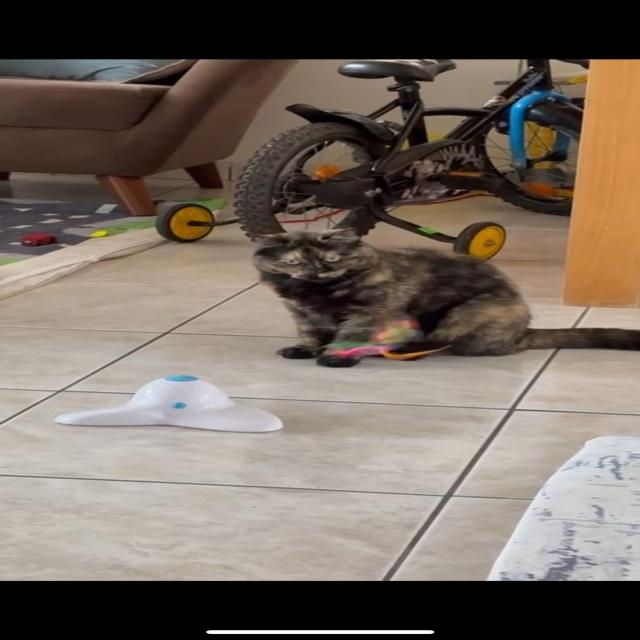authorized: (249, 227, 639, 360)
